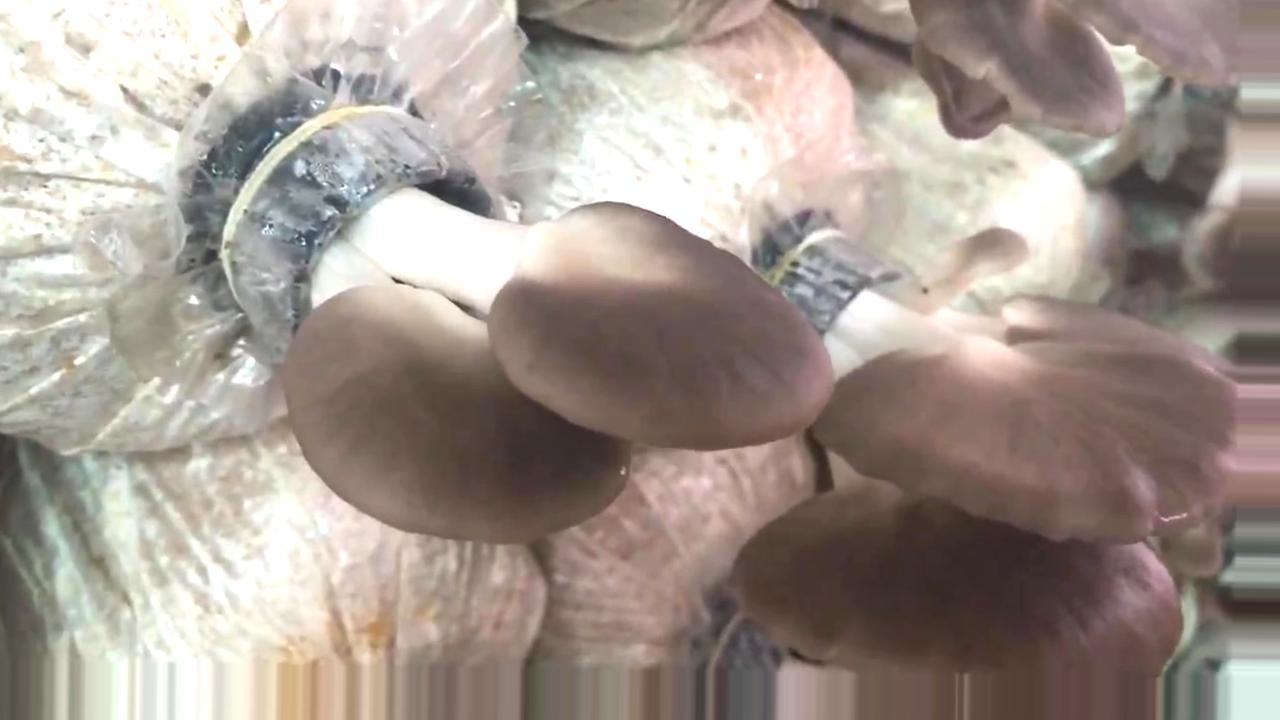nam: (217, 95, 830, 543), (730, 214, 1232, 720), (914, 1, 1269, 139)
